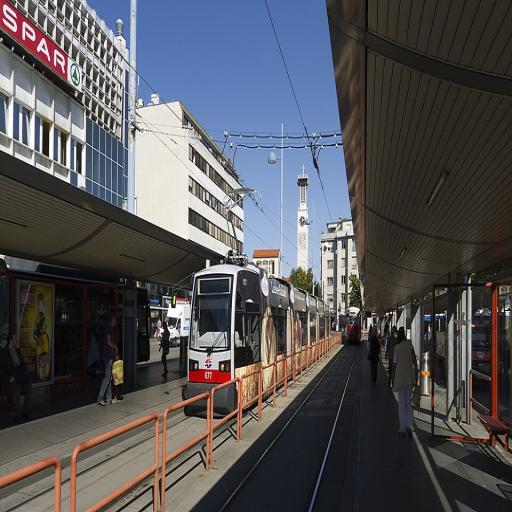ULF: (183, 261, 335, 430)
